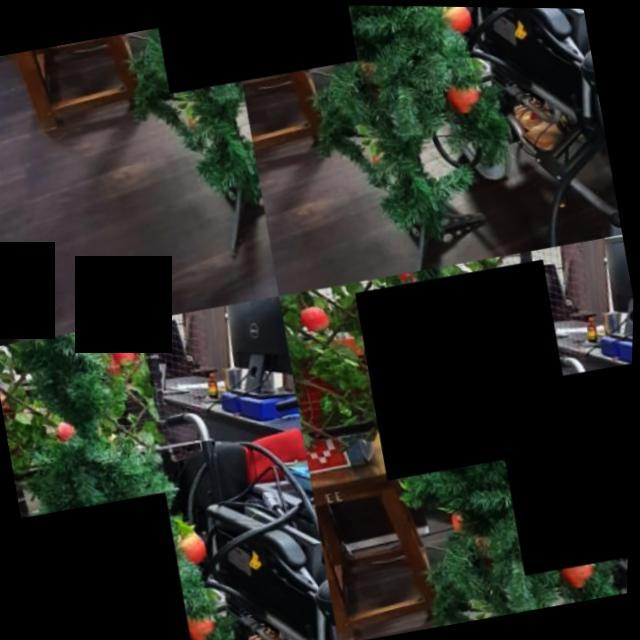Tree: (300, 234, 637, 640), (227, 4, 628, 301), (1, 303, 297, 640), (13, 13, 287, 338)
